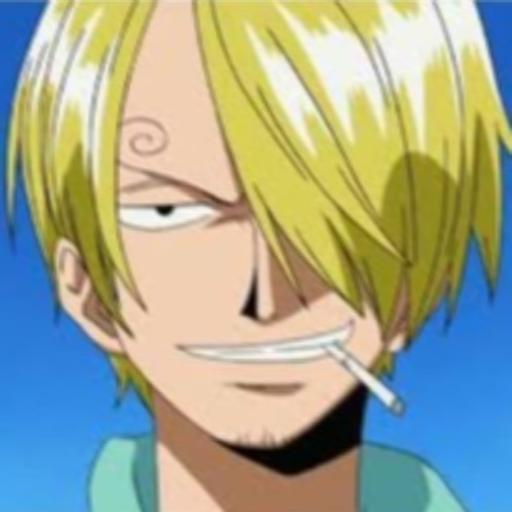sanji: (9, 1, 512, 512)
